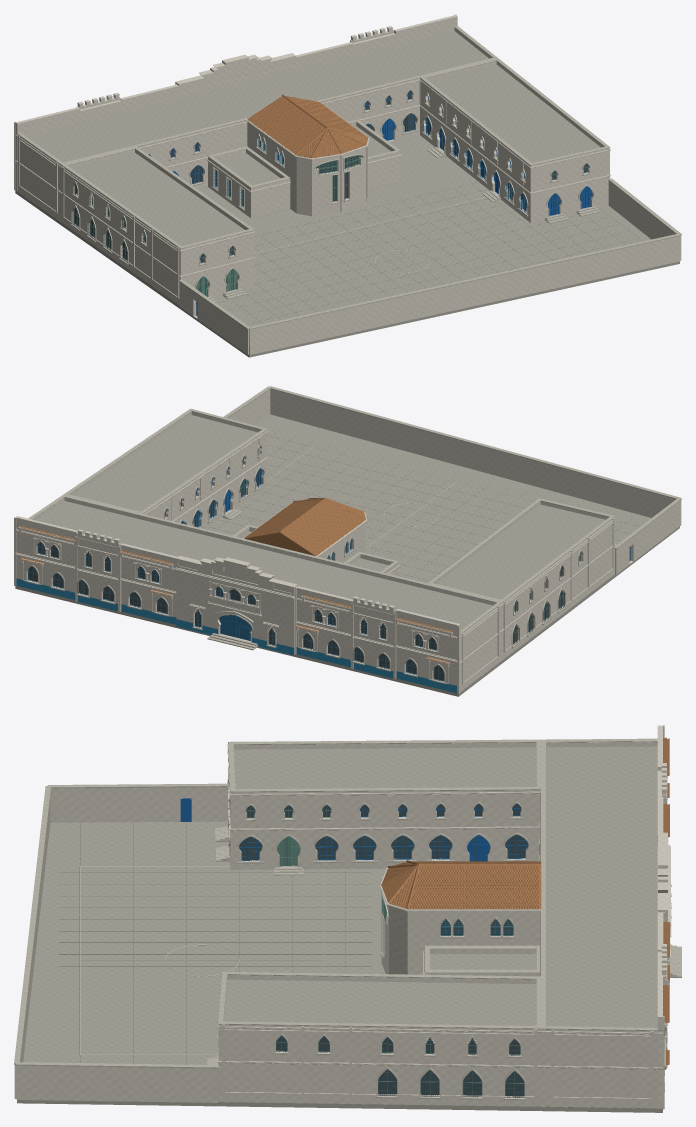
File: grupo_escolar_web.glb
3 renders of one model, top to bottom at view 1: azimuth 30°, elevation 25°; view 2: azimuth 150°, elevation 25°; view 3: azimuth 270°, elevation 25°, orthographic. The views are drawn at different scales.
Visible parts, largest first — view 1: MAT_CONCRETE, MAT_PLASTER_AGED_WHITE, MAT_STONE, MAT_TERRACOTTA_TILE, MAT_GLASS_MUTED, MAT_BLUE_WOOD, MAT_JOINT, MAT_GREEN_JOINERY, MAT_METAL_DARK, MAT_BLUE_METAL, MAT_SPORT_PAINT; view 2: MAT_PLASTER_AGED_WHITE, MAT_CONCRETE, MAT_STONE, MAT_TERRACOTTA_TILE, MAT_GLASS_MUTED, MAT_PLASTER_BLUE, MAT_METAL_DARK, MAT_BLUE_METAL, MAT_JOINT, MAT_SPORT_PAINT; view 3: MAT_CONCRETE, MAT_PLASTER_AGED_WHITE, MAT_STONE, MAT_TERRACOTTA_TILE, MAT_GLASS_MUTED, MAT_JOINT, MAT_BLUE_WOOD, MAT_GREEN_JOINERY, MAT_BLUE_METAL, MAT_METAL_DARK, MAT_SPORT_PAINT.
Boxes of the visible parts, x1,y1,x2,y2 form: MAT_CONCRETE: (15,31,679,357); MAT_PLASTER_AGED_WHITE: (14,14,681,354); MAT_STONE: (15,26,681,329); MAT_TERRACOTTA_TILE: (247,94,368,158); MAT_GLASS_MUTED: (74,90,588,262); MAT_BLUE_WOOD: (149,91,592,315); MAT_JOINT: (218,182,639,323); MAT_GREEN_JOINERY: (74,137,588,296); MAT_METAL_DARK: (72,114,589,309); MAT_BLUE_METAL: (213,117,526,212); MAT_SPORT_PAINT: (250,197,582,317); MAT_PLASTER_AGED_WHITE: (14,389,681,694); MAT_CONCRETE: (15,414,679,696); MAT_STONE: (25,386,681,683); MAT_TERRACOTTA_TILE: (19,498,453,663); MAT_GLASS_MUTED: (28,449,580,680); MAT_PLASTER_BLUE: (16,578,456,693); MAT_METAL_DARK: (27,502,582,681); MAT_BLUE_METAL: (28,468,444,681); MAT_JOINT: (213,433,639,580); MAT_SPORT_PAINT: (236,447,534,567); MAT_CONCRETE: (17,746,662,1112); MAT_PLASTER_AGED_WHITE: (14,725,671,1109); MAT_STONE: (14,738,681,1100); MAT_TERRACOTTA_TILE: (381,737,669,1065); MAT_GLASS_MUTED: (239,803,527,1096); MAT_JOINT: (59,824,371,1064); MAT_BLUE_WOOD: (180,798,528,861); MAT_GREEN_JOINERY: (246,805,524,1095); MAT_BLUE_METAL: (240,836,527,936); MAT_METAL_DARK: (276,835,669,1097); MAT_SPORT_PAINT: (79,866,324,1054).
Bounding box in the file's own units: 65.28 × 11.4 × 63.02.
Materials: 12 (5 with a texture image).
